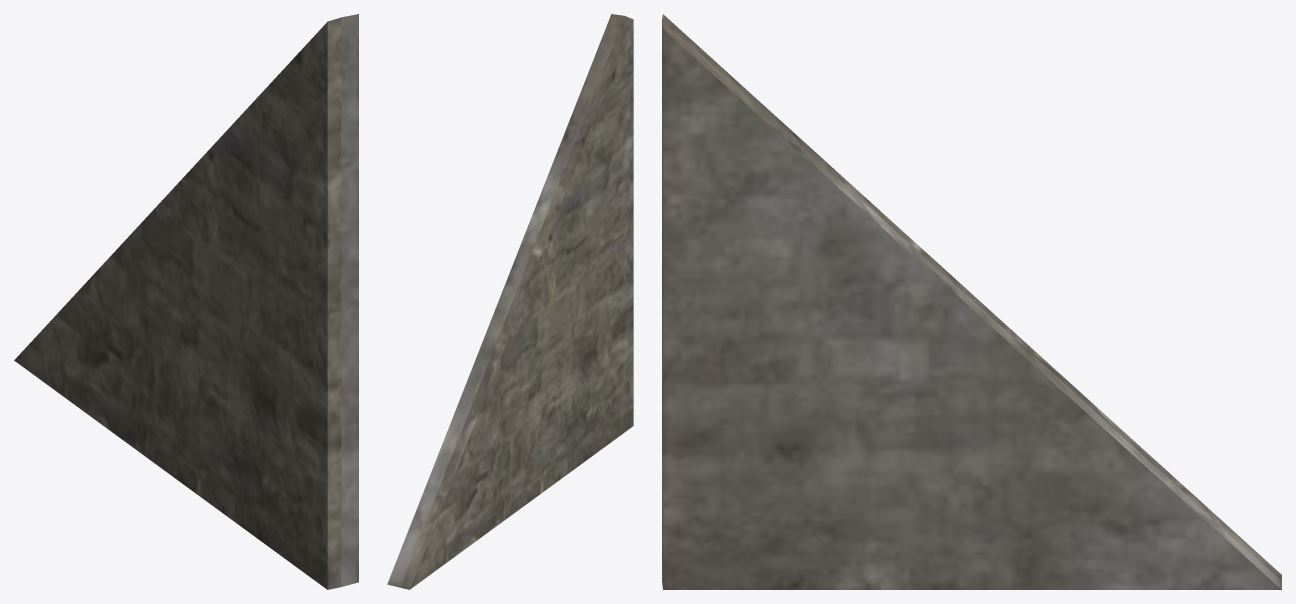
File: wall.stone.right.glb
3 views of the same model, side by side, from view 1: azimuth 30°, elevation 25°; view 2: azimuth 150°, elevation 25°; view 3: azimuth 270°, elevation 25° (orthographic). The views are drawn at different scales.
Parts seen in each view (by area): view 1: LOD0; view 2: LOD0; view 3: LOD0.
Boxes of the visible parts, x1,y1,x2,y2 form: LOD0: (14,14,358,589); LOD0: (387,14,633,589); LOD0: (662,14,1281,589).
Bounding box in the file's own units: 0.1729 × 3.01 × 3.01.
Materials: 1 (1 with a texture image).
